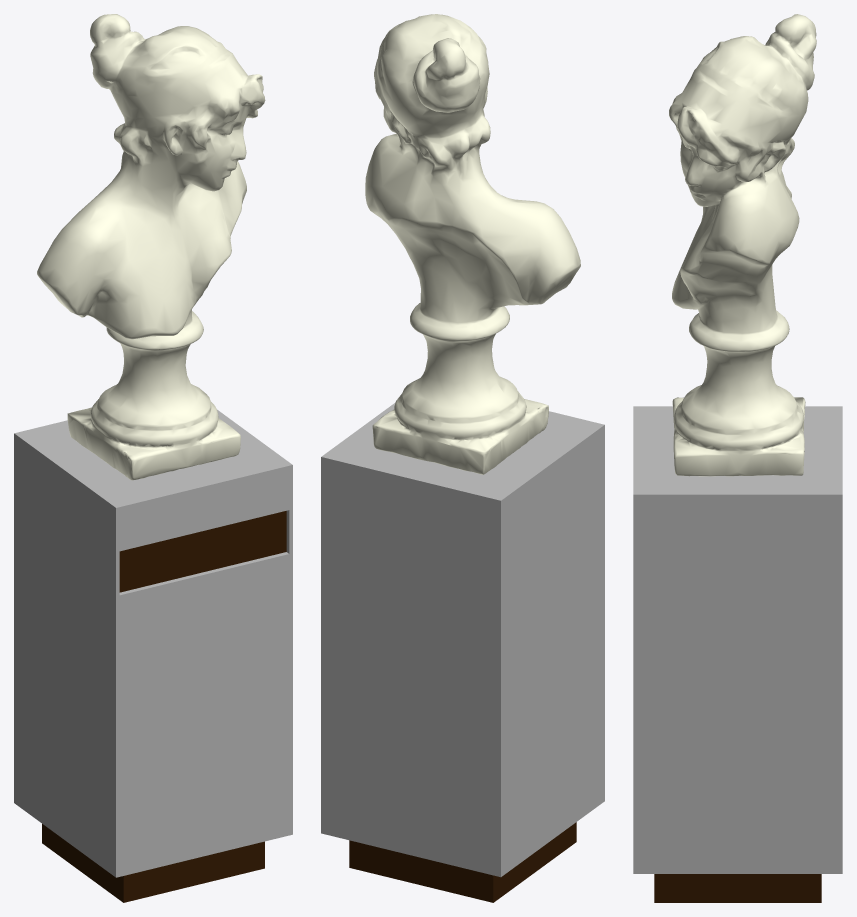
The model's file is Statue.fbx.
3 views of the same model, side by side, from view 1: azimuth 30°, elevation 25°; view 2: azimuth 150°, elevation 25°; view 3: azimuth 270°, elevation 25° (orthographic). The views are drawn at different scales.
Parts seen in each view (by area): view 1: Statue; view 2: Statue; view 3: Statue.
Part boxes in pixels (x1,y1,x2,y2): Statue: (14,14,292,902); Statue: (321,14,604,902); Statue: (633,14,842,902).
Bounding box in the file's own units: 100 × 116 × 445.
